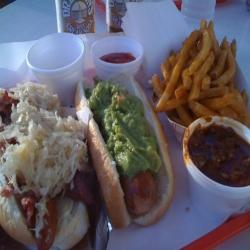fries: (152, 20, 250, 124)
hotdog: (73, 72, 181, 232), (1, 80, 92, 249)
ketchup: (91, 35, 140, 75)
